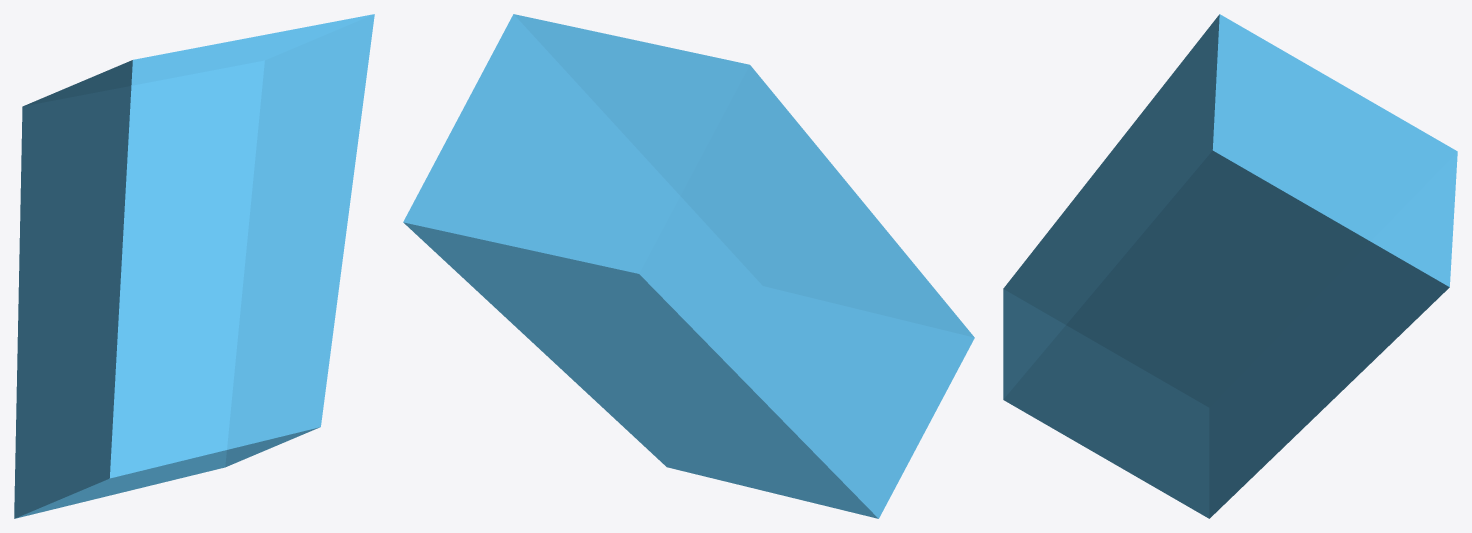
Rendered from Event_421556567_HBrechit_19.fbx.
The picture shows the model from 3 angles, left to right: view 1: azimuth 30°, elevation 25°; view 2: azimuth 150°, elevation 25°; view 3: azimuth 270°, elevation 25°; orthographic projection. The views are drawn at different scales.
Parts seen in each view (by area): view 1: Model; view 2: Model; view 3: Model.
Boxes of the visible parts, box(x1,y1,x2,y2) form: Model: box(14, 14, 374, 518); Model: box(403, 14, 974, 518); Model: box(1003, 14, 1457, 518).
Size of the model in its own units: 0.7408 by 0.8317 by 0.7467.
